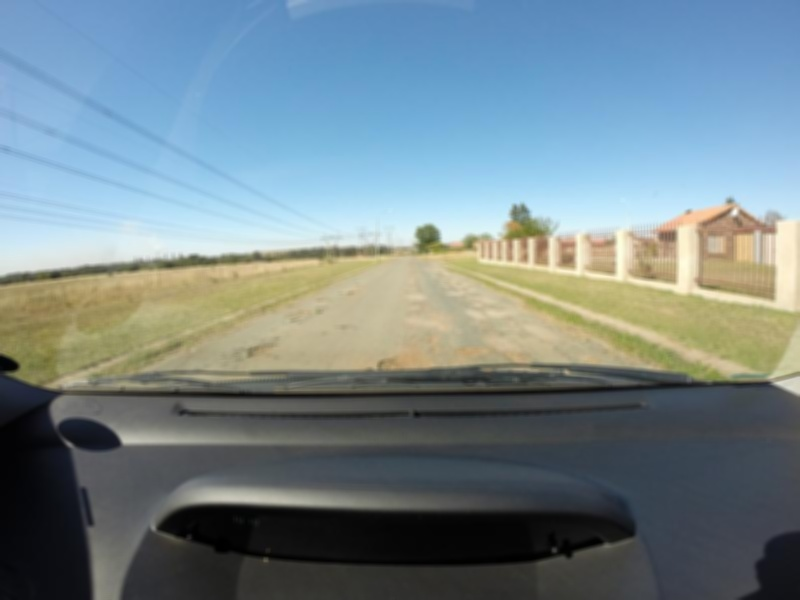pothole: (374, 346, 445, 370), (455, 328, 498, 359), (237, 335, 284, 362), (334, 317, 359, 336)
